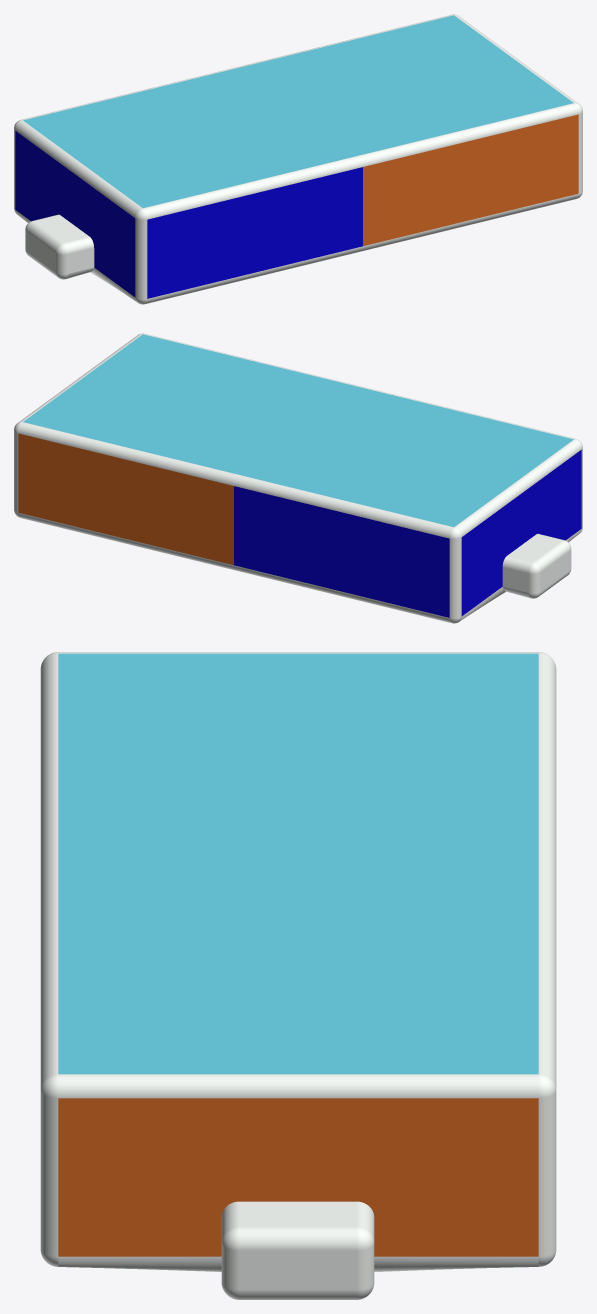
The model's file is mapRL.fbx.
The picture shows the model from 3 angles, top to bottom: view 1: azimuth 30°, elevation 25°; view 2: azimuth 150°, elevation 25°; view 3: azimuth 270°, elevation 25°; orthographic projection. The views are drawn at different scales.
Parts seen in each view (by area): view 1: MapRLBlue, MapRLOrange; view 2: MapRLBlue, MapRLOrange; view 3: MapRLOrange, MapRLBlue.
Part boxes in pixels (left/top/right/bottom): MapRLBlue: left=14, top=67, right=362, bottom=304; MapRLOrange: left=237, top=14, right=582, bottom=251; MapRLBlue: left=234, top=386, right=582, bottom=623; MapRLOrange: left=14, top=333, right=359, bottom=570; MapRLOrange: left=40, top=864, right=556, bottom=1299; MapRLBlue: left=40, top=652, right=556, bottom=877.
Size of the model in its own units: 461 by 81.65 by 200.
